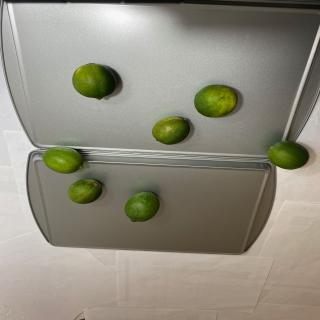Apple: (194, 84, 238, 118), (267, 140, 309, 170), (124, 191, 160, 222), (152, 116, 190, 145), (68, 179, 102, 204)
Lemon: (72, 63, 116, 100), (42, 146, 84, 174)
